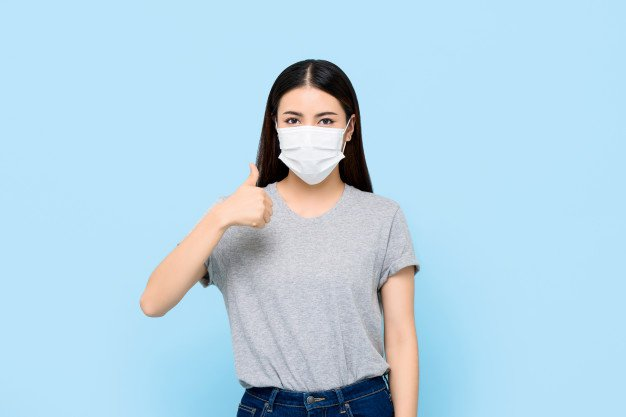mask: (257, 56, 371, 192)
